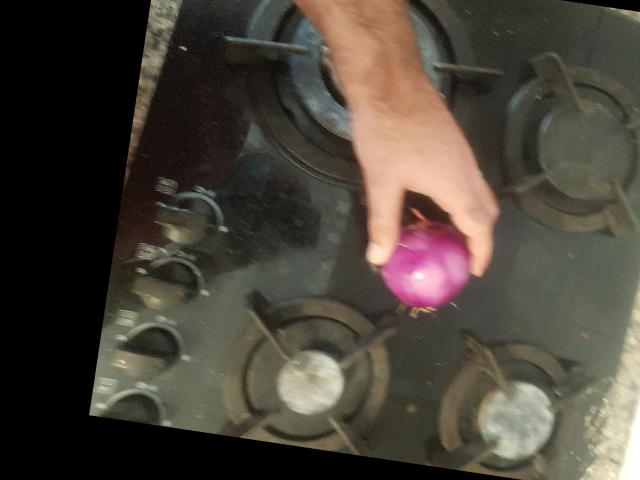onion: (369, 203, 478, 310)
